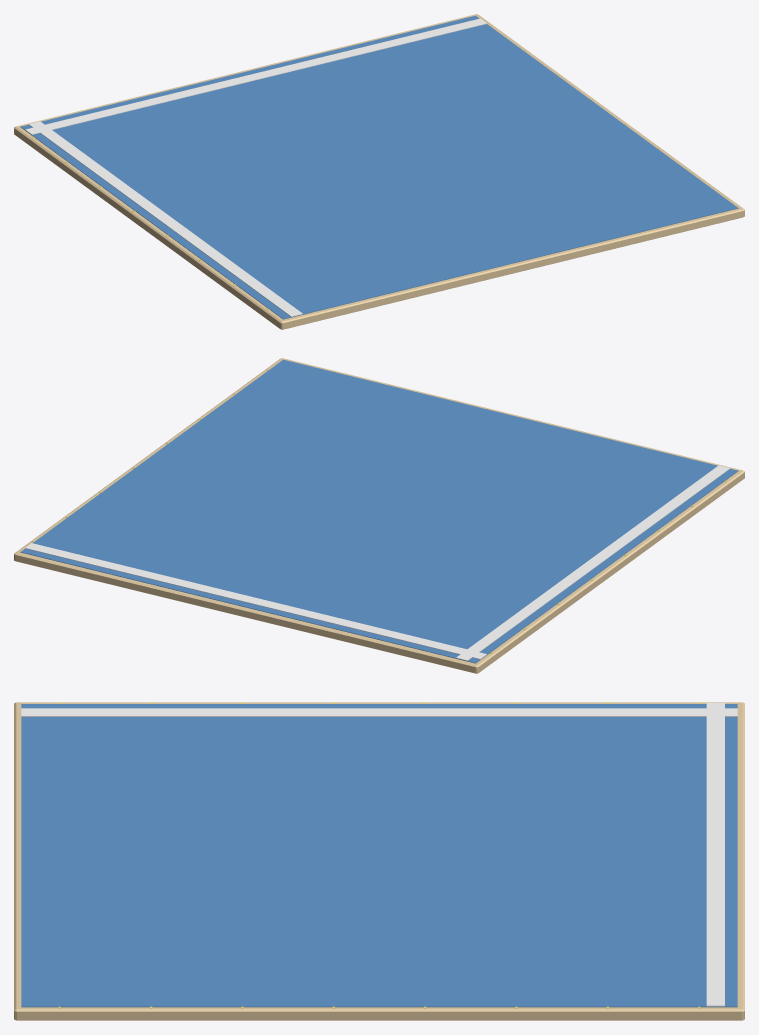
Rendered from community-sports-hall-and-changing-rooms-sports-hall-f-9b515a83__35082.glb.
3 renders of one model, top to bottom at view 1: azimuth 30°, elevation 25°; view 2: azimuth 150°, elevation 25°; view 3: azimuth 270°, elevation 25°, orthographic. The views are drawn at different scales.
Visible parts, largest first — view 1: sports-hall-floor-panel-key; view 2: sports-hall-floor-panel-key; view 3: sports-hall-floor-panel-key.
Part boxes in pixels (x1,y1,x2,y2): sports-hall-floor-panel-key: (14, 14, 744, 329); sports-hall-floor-panel-key: (14, 358, 744, 673); sports-hall-floor-panel-key: (14, 702, 744, 1020).
Size of the model in its own units: 2 by 0.0384 by 2.
